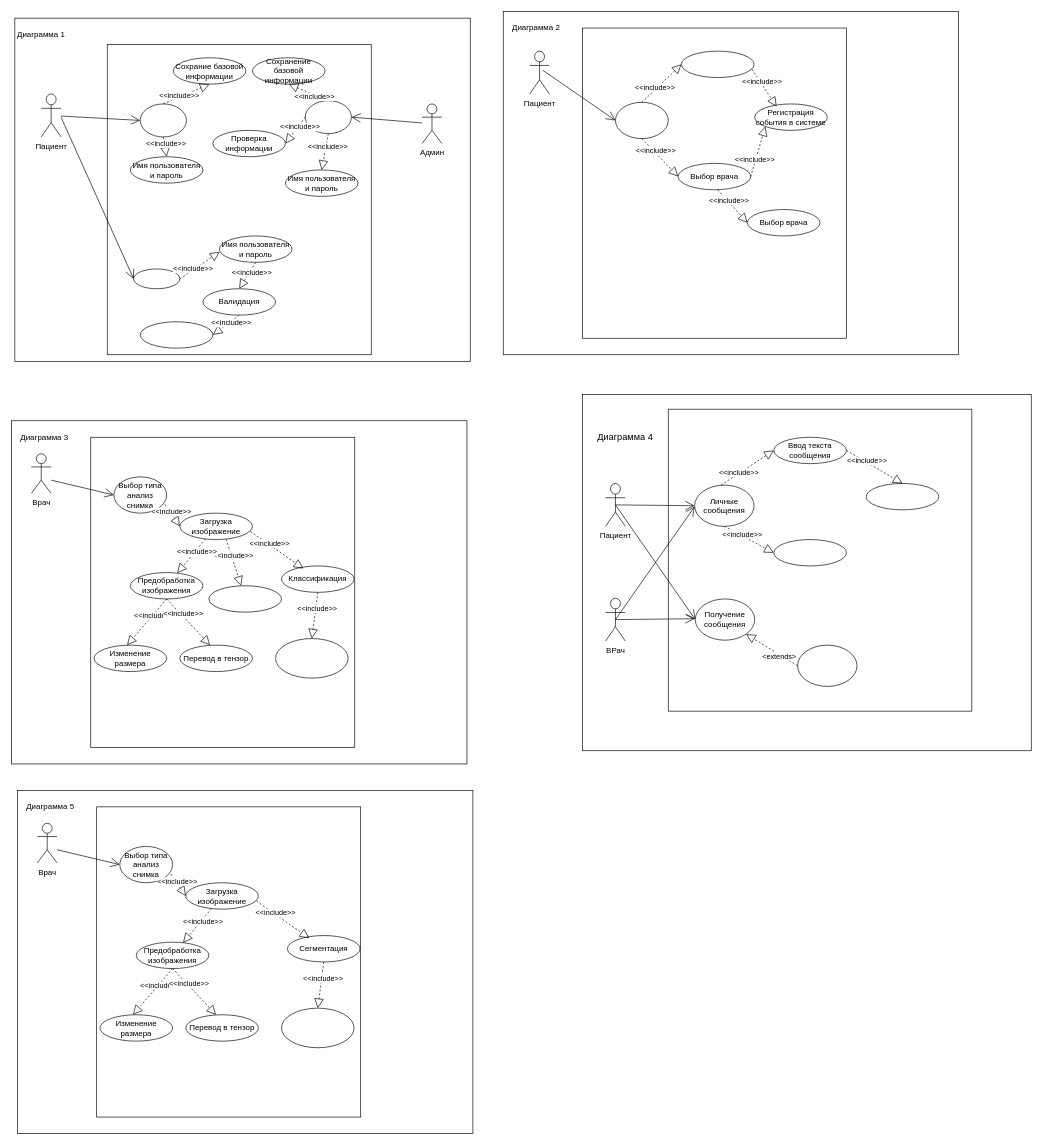
Some shapes in this 1043 by 1145 pixel diagram are drawn without their labels. The centre of each missing label's shape, as x and y in pixels:
"Выбор даты и времени" belongs at point (717, 64).
"Выбор получателя" belongs at point (809, 552).
"Выделение сегментированных областей" belongs at point (317, 1027).
"Доступ к системе" belongs at point (176, 334).
"Запись к врачу" belongs at point (641, 120).
"Определение результата классификации" belongs at point (311, 658).
"Отправление сообщения" belongs at point (902, 496).
"Построение карты активации" belongs at point (244, 598).
"Просмотр сообщений" belongs at point (827, 665).
"Регистрация" belongs at point (156, 278).
"Регистрация доктора" belongs at point (328, 117).
"Регистрация пациента" belongs at point (163, 120).
